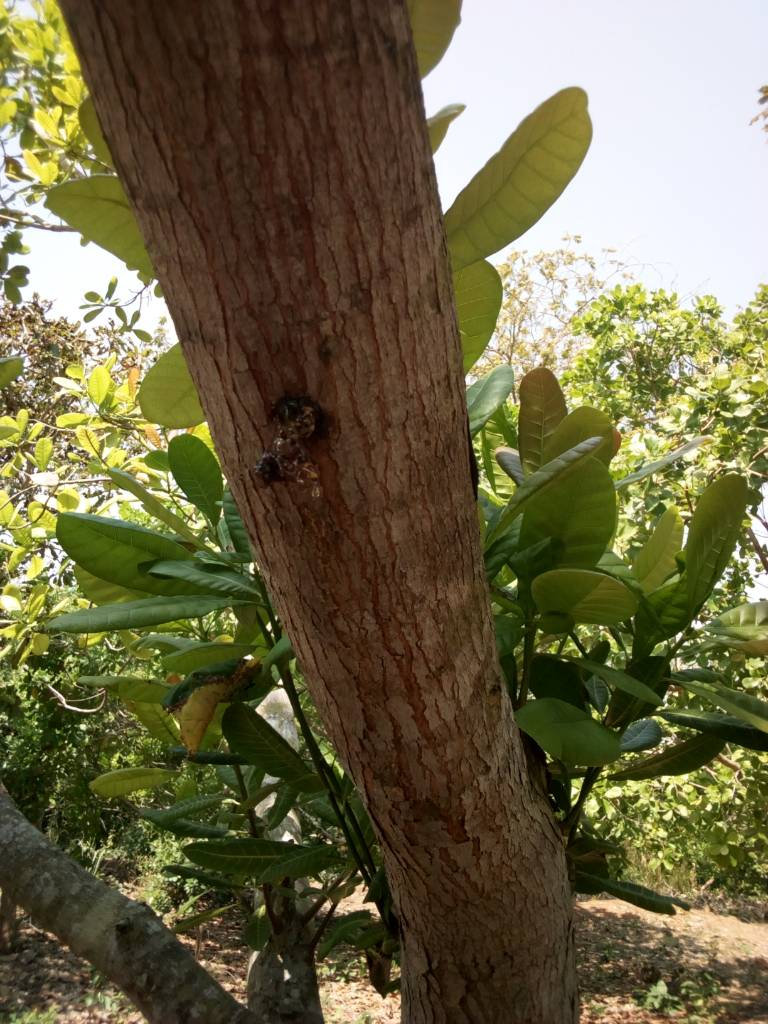Apate terebrans: (198, 367, 393, 514)
